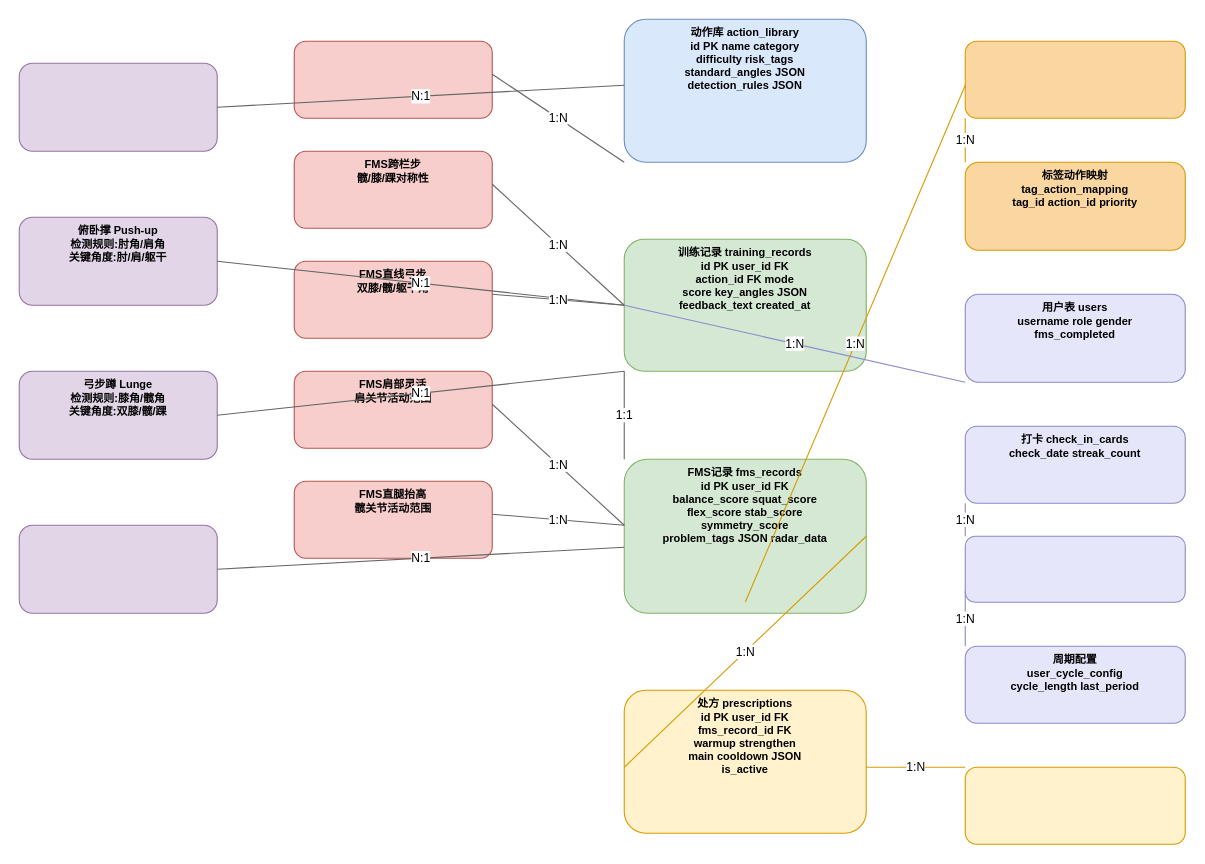
Some shapes in this 1205 by 864 pixel diagram are drawn without their labels. The centre of each missing label's shape, as x and y in pixels:
"FMS深蹲 肩/髋/膝/踝角" goes at (392,79).
"处方明细 prescription_items phase sets reps order" goes at (1074,805).
"平板支撑 Plank 检测规则:躯干平行度 关键角度:肩/髋/膝" goes at (117,568).
"徽章 badges badge_type earned_at" goes at (1074,568).
"深蹲 Squat 检测规则:膝角/髋角 关键角度:膝/髋/踝" goes at (117,106).
"问题标签 problem_tags tag_name fms_dimension" goes at (1074,79).
